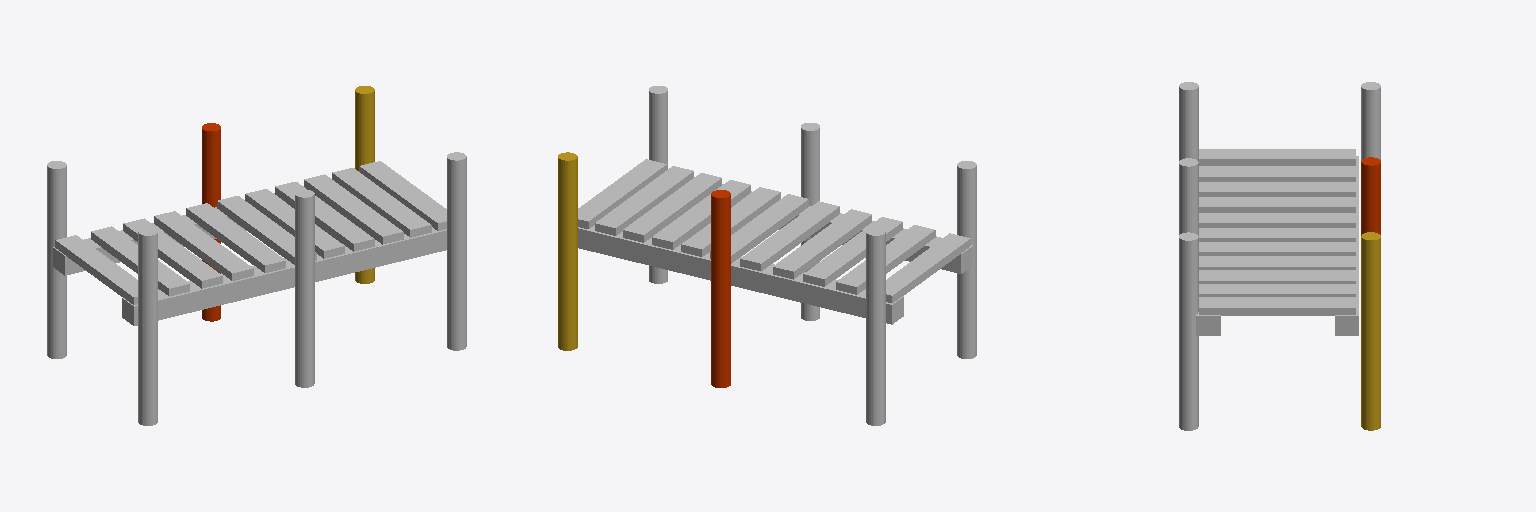
Rendered from pier.obj.
3 renders of one model, left to right at view 1: azimuth 30°, elevation 25°; view 2: azimuth 150°, elevation 25°; view 3: azimuth 270°, elevation 25°, orthographic.
Parts seen in each view (by area): view 1: Cube.002_Cube.003; view 2: Cube.002_Cube.003; view 3: Cube.002_Cube.003.
Boxes of the visible parts, x1=… form: Cube.002_Cube.003: x1=47, y1=86, x2=466, y2=425; Cube.002_Cube.003: x1=558, y1=86, x2=976, y2=425; Cube.002_Cube.003: x1=1179, y1=82, x2=1380, y2=430.
Size of the model in its own units: 5.89 by 3.27 by 3.15.